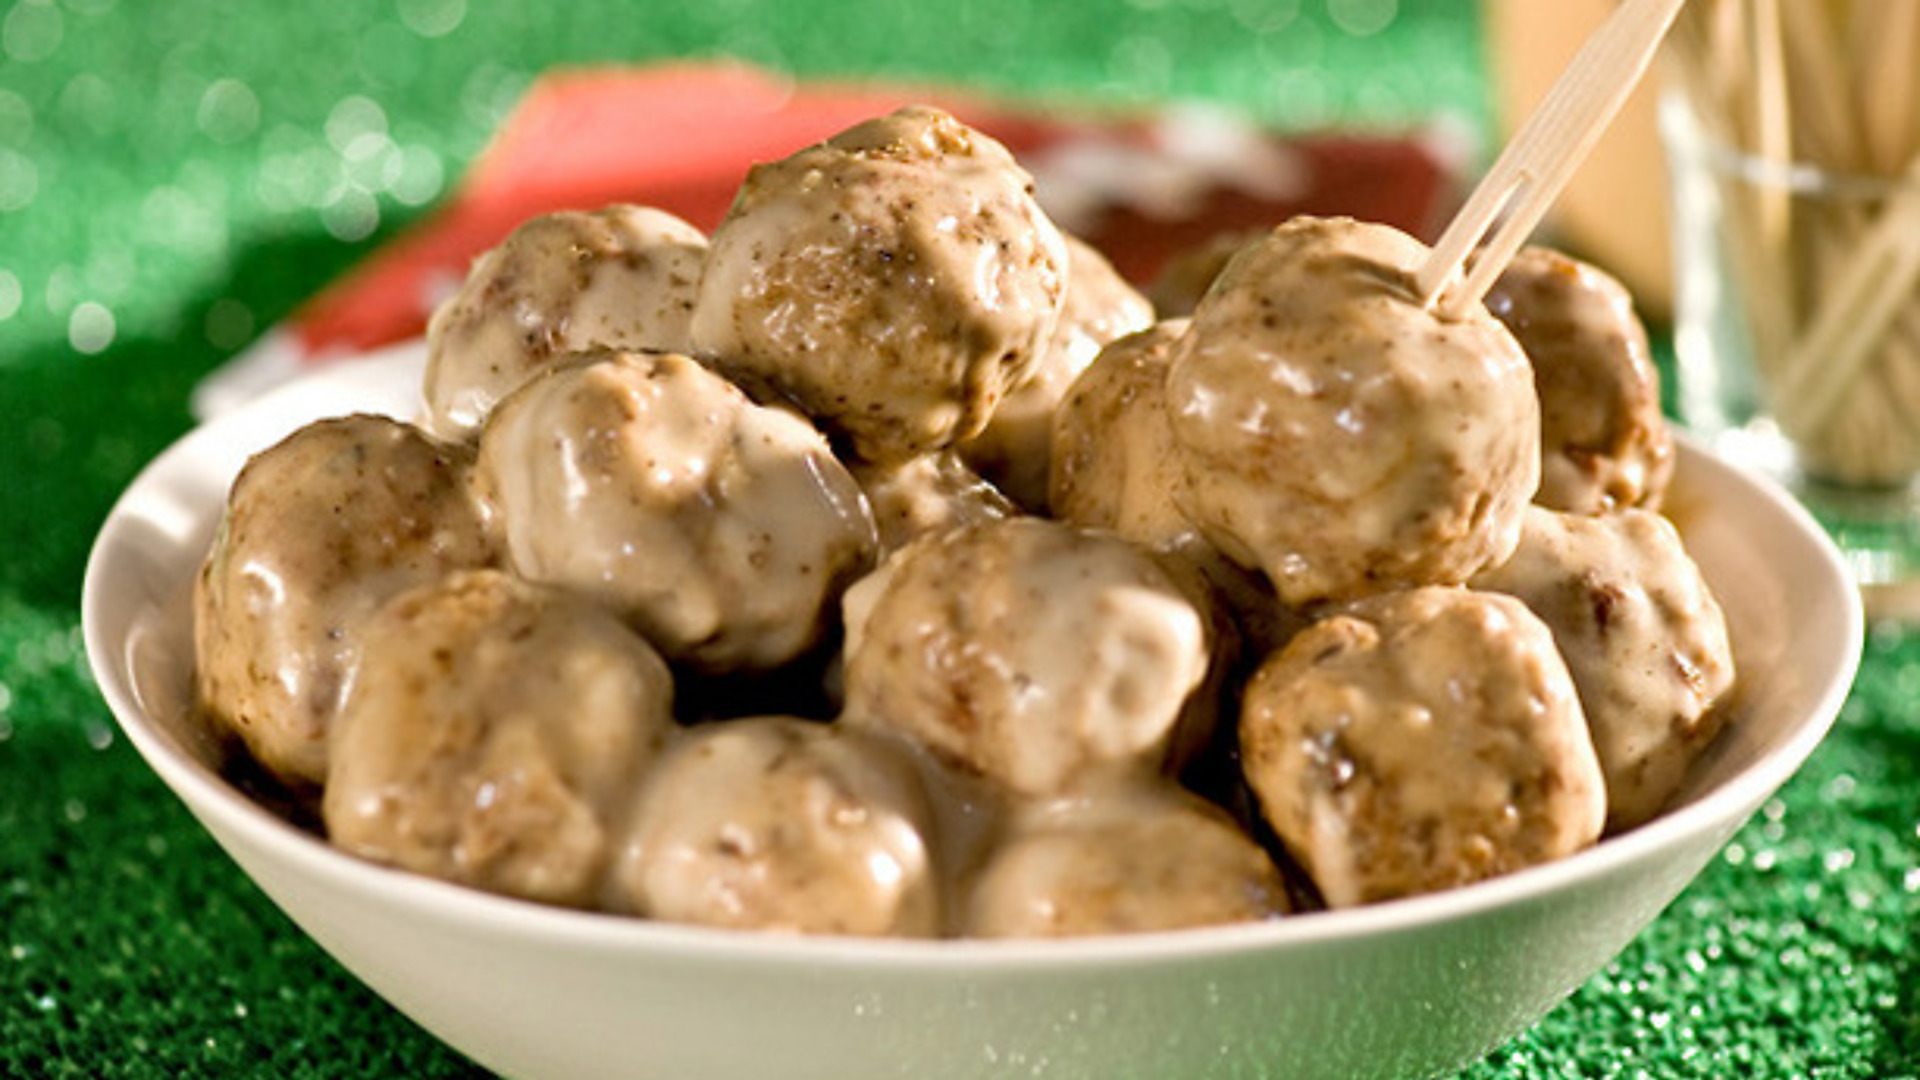meatballs: (229, 135, 1733, 915)
